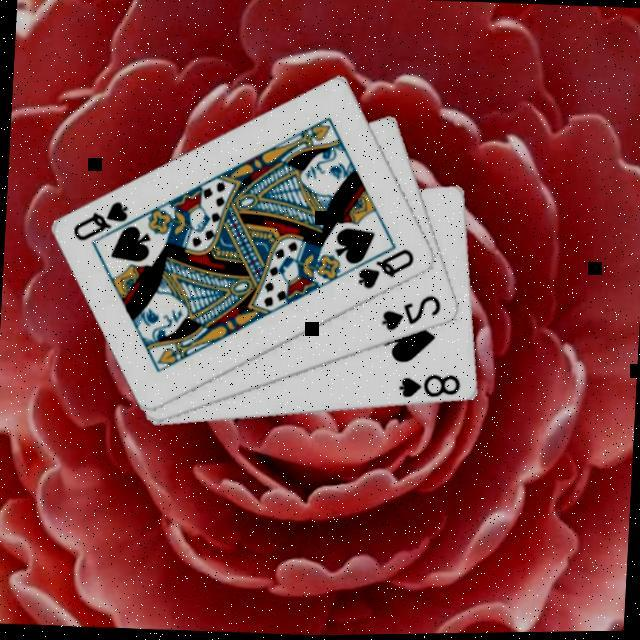2S: (380, 288, 446, 336)
8S: (396, 368, 466, 404)
QS: (356, 242, 420, 294), (72, 194, 134, 245)
